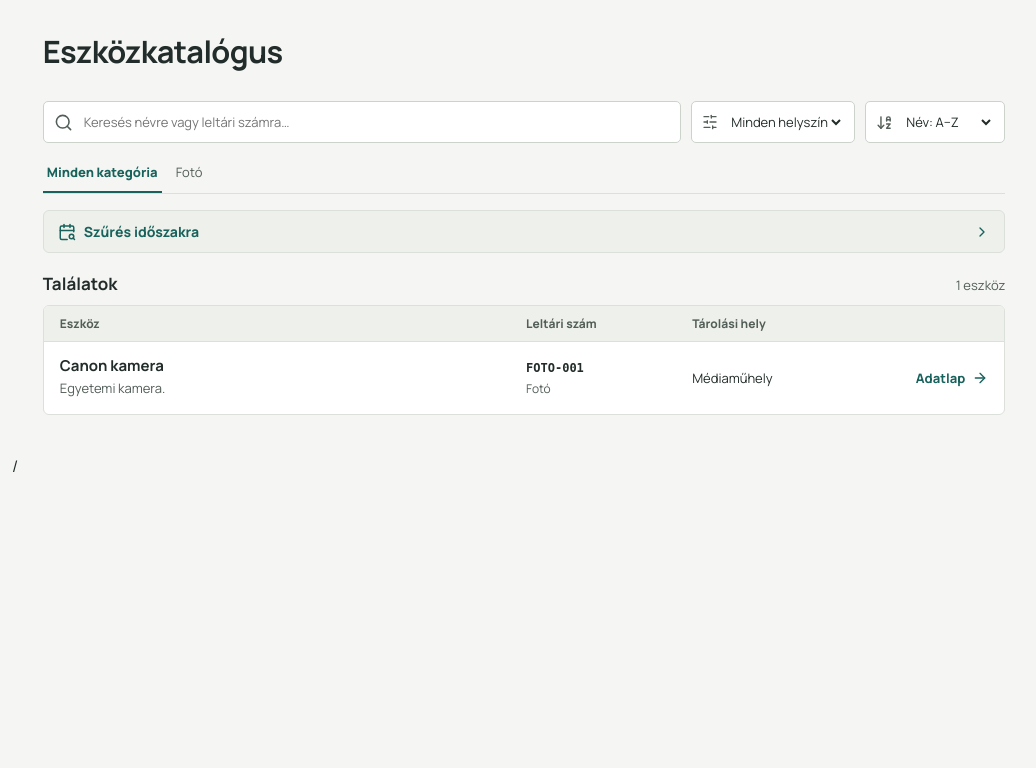
Test: időszakra szűrt katalógus › szerverhibánál megtartja az időpontokat, és nem mutat régi szabad találatot
Check: the heading "Canon kamera" is shown, box [60, 355, 164, 376]
Click the heading "Szűrés időszakra" at {"x": 141, "y": 232}, box [58, 222, 990, 241]
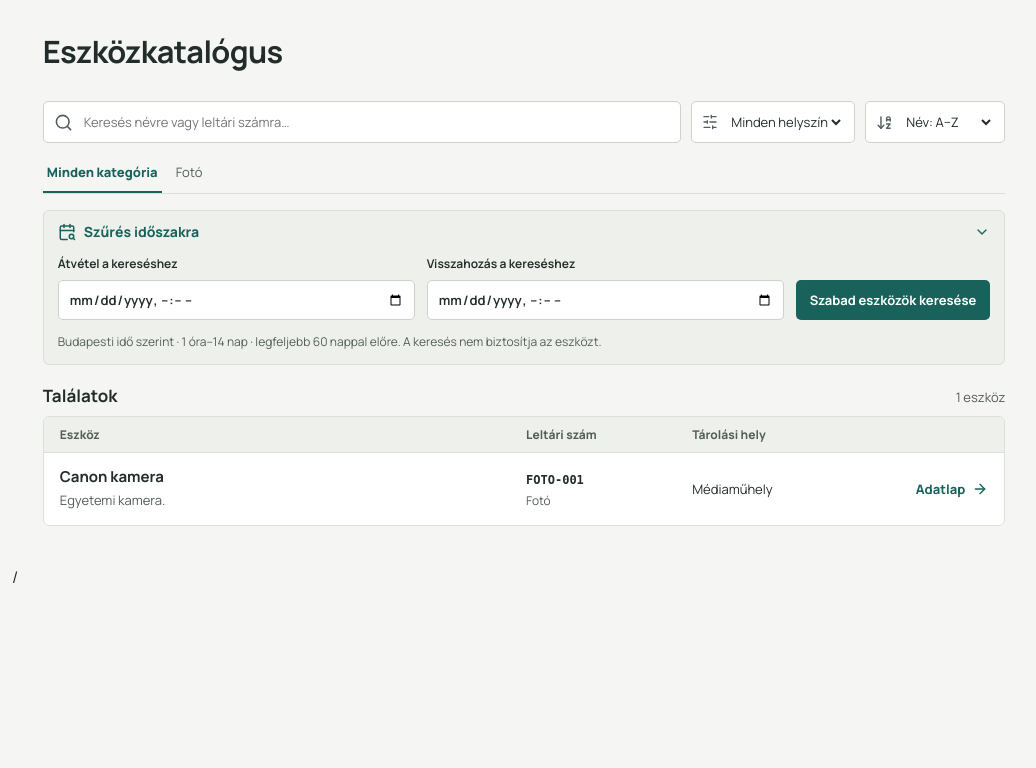
Type "2026-11-12T09:00" into the field labelled "Átvétel a kereséshez" at {"x": 236, "y": 300}, box [58, 280, 415, 320]
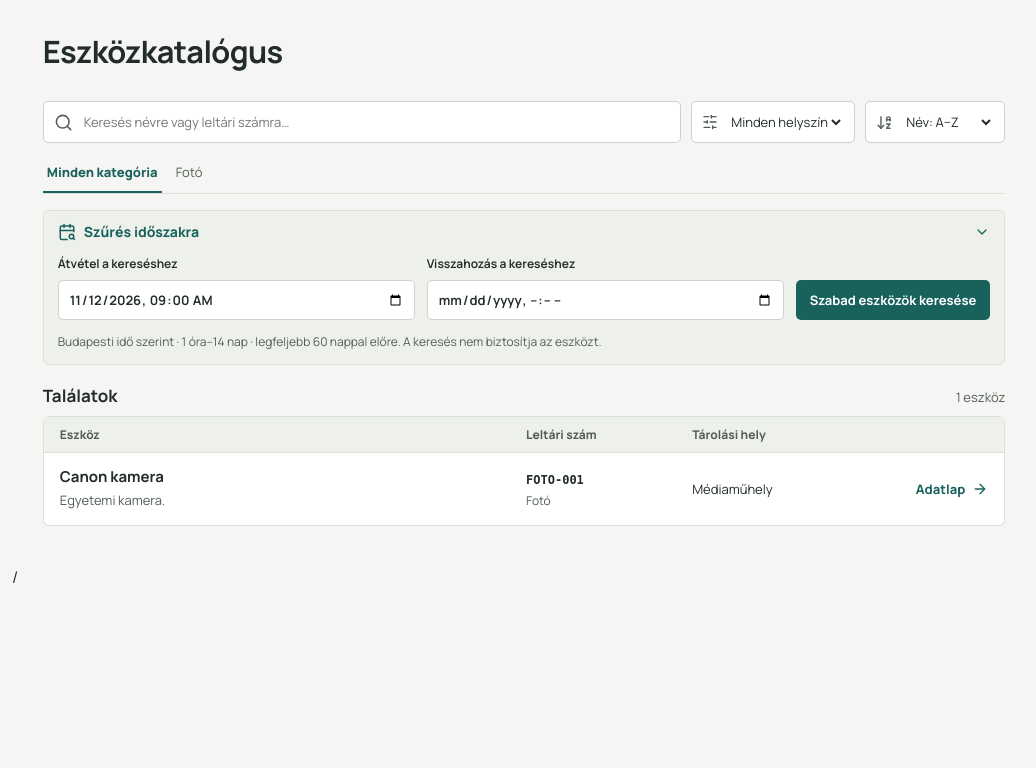
Type "2026-11-12T12:00" into the field labelled "Visszahozás a kereséshez" at {"x": 605, "y": 300}, box [427, 280, 784, 320]
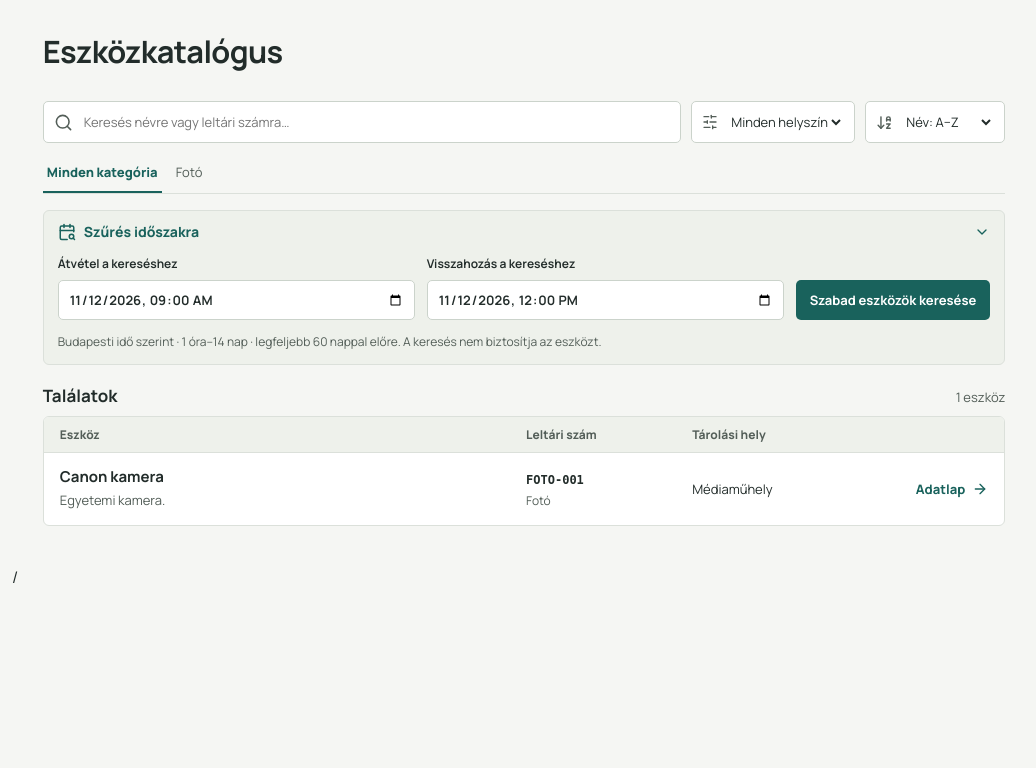
Click the button "Szabad eszközök keresése" at {"x": 893, "y": 300}, box [796, 280, 990, 320]
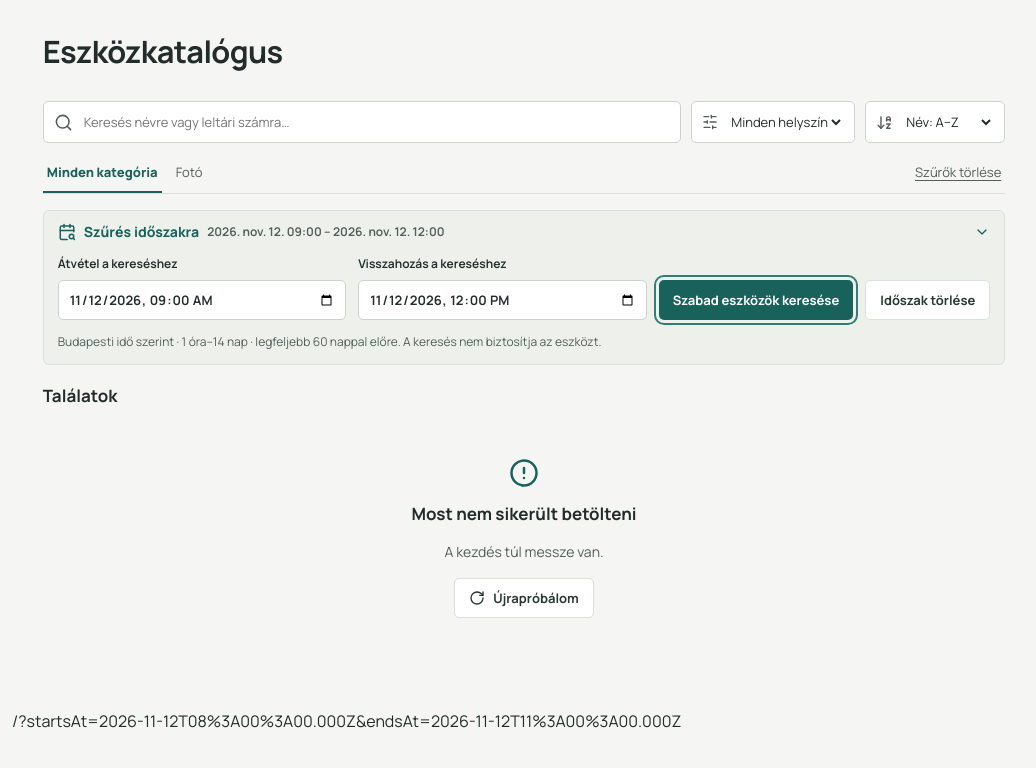
Check: the message "Most nem sikerült betölteni A kezdés túl messze van. Újrapróbálom" is shown, box [411, 458, 637, 618]
Check: the heading "Canon kamera" is gone
